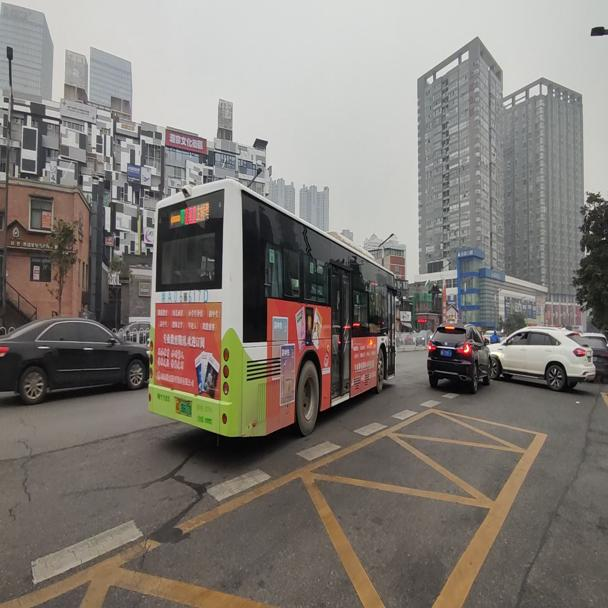bus: (147, 175, 405, 441)
screen: (182, 200, 197, 225)
